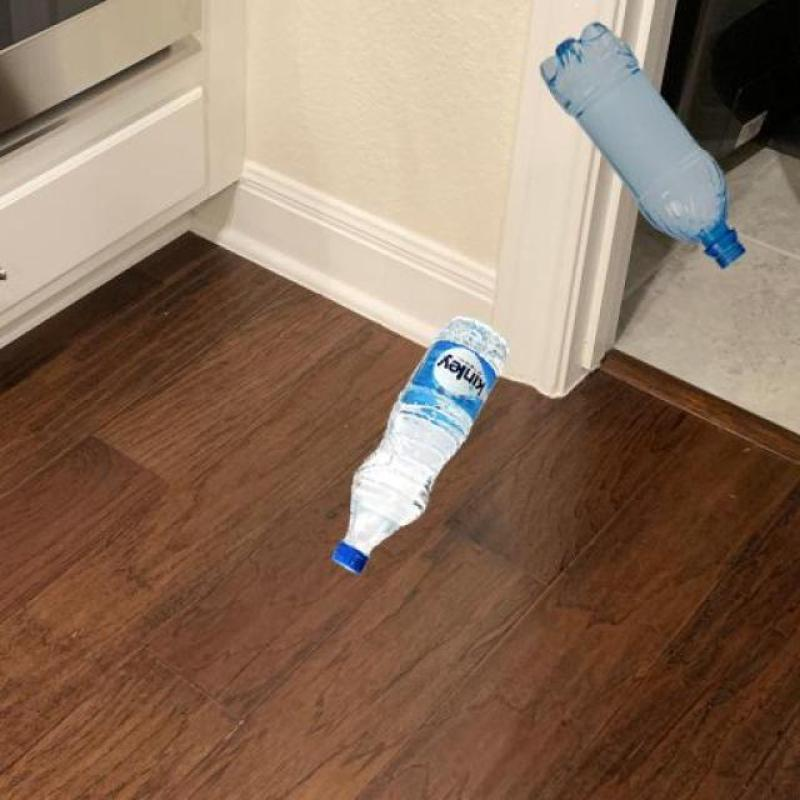botella: (540, 21, 744, 268), (334, 316, 508, 574)
